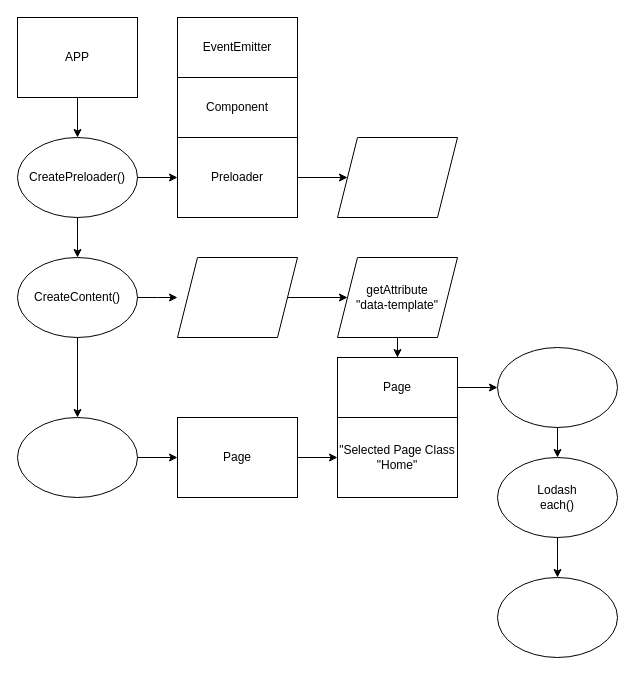
Image size: 635x675. Some labels were removed from this diagram. Here are the shapes that lost their labels. From the top down, the centre of each, then its label:
the point at 397,177: once completed EventEmitter
the point at 237,297: querySelector .content
the point at 557,387: create()
the point at 77,457: CreatePage()
the point at 557,617: createAnimation()
